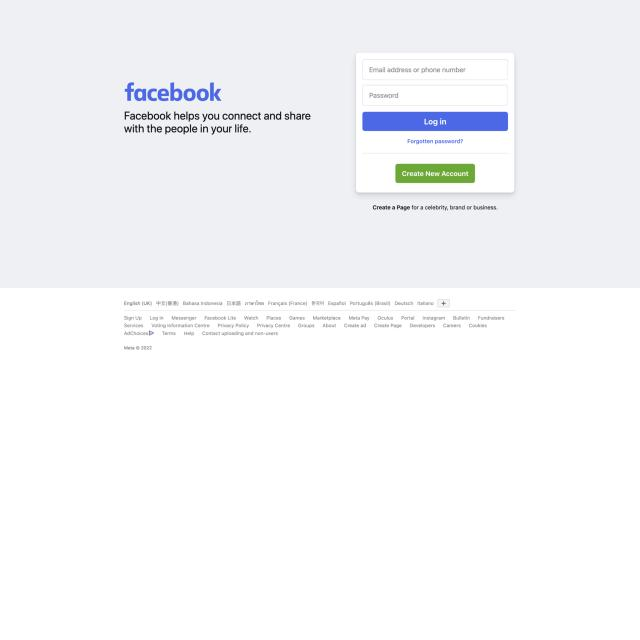footer: (0, 288, 640, 364)
input: (360, 57, 510, 82), (361, 84, 510, 106)
logo: (124, 79, 226, 105)
